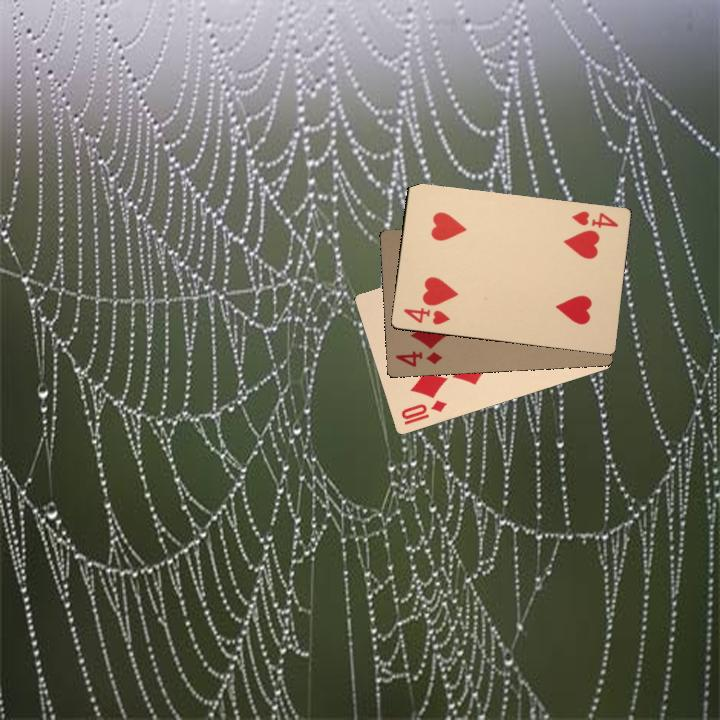10d: (397, 396, 449, 427)
4d: (392, 347, 445, 369)
4h: (568, 207, 621, 231), (400, 303, 452, 327)
